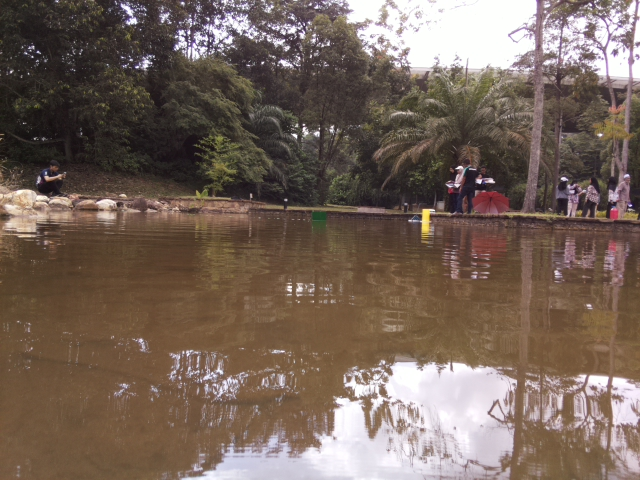obstacle: (310, 210, 329, 221)
